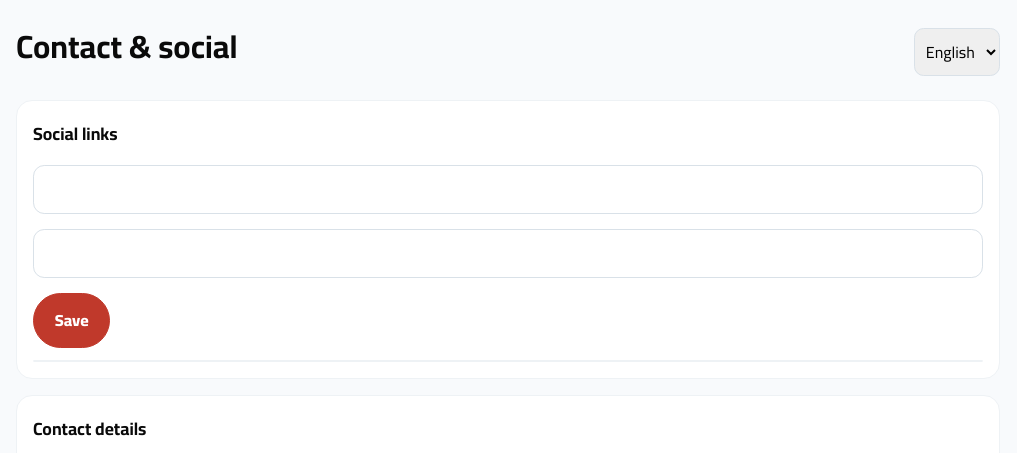
Test: AdminManagedContentPage › renders localized social controls
The image size is (1017, 453).
Select "Türkçe" in the dropdown named "Language": (957, 52) [914, 28, 1000, 76]
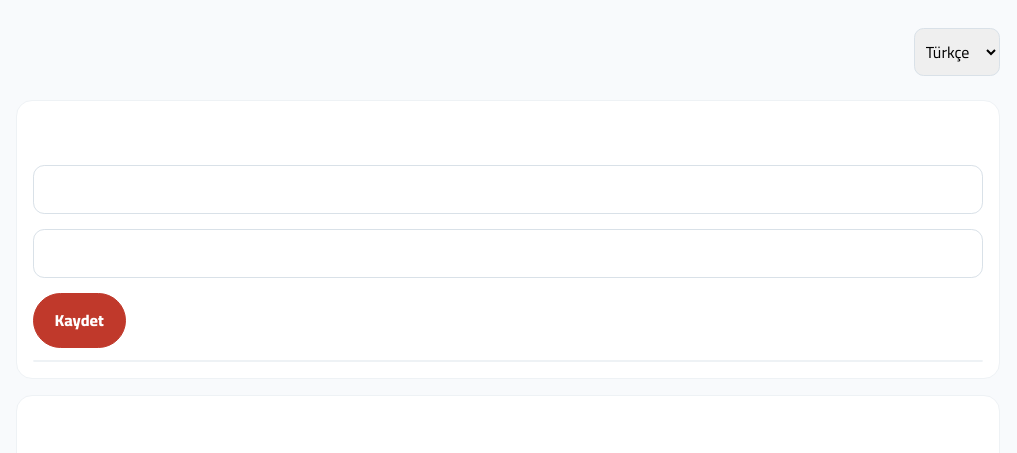
Check: the button "Kaydet" is shown, box [33, 292, 126, 348]
